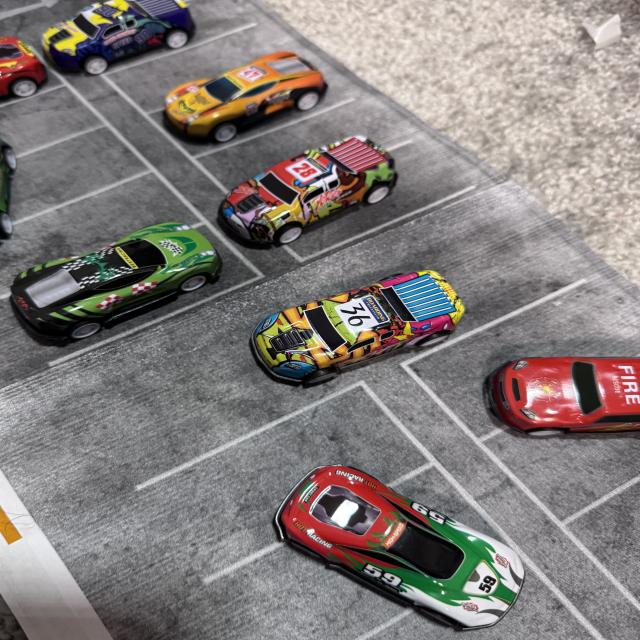car: (281, 417, 548, 640), (260, 205, 462, 413), (25, 182, 231, 370), (489, 318, 640, 516), (241, 123, 448, 265), (172, 36, 352, 159), (0, 25, 109, 138), (54, 0, 208, 56), (0, 122, 40, 256)
